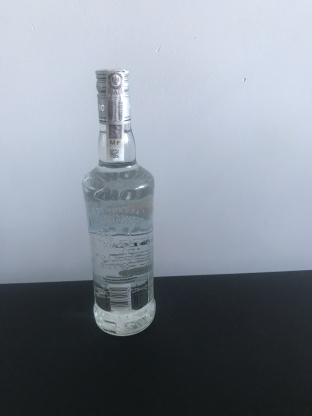nakretka: (93, 64, 132, 126)
